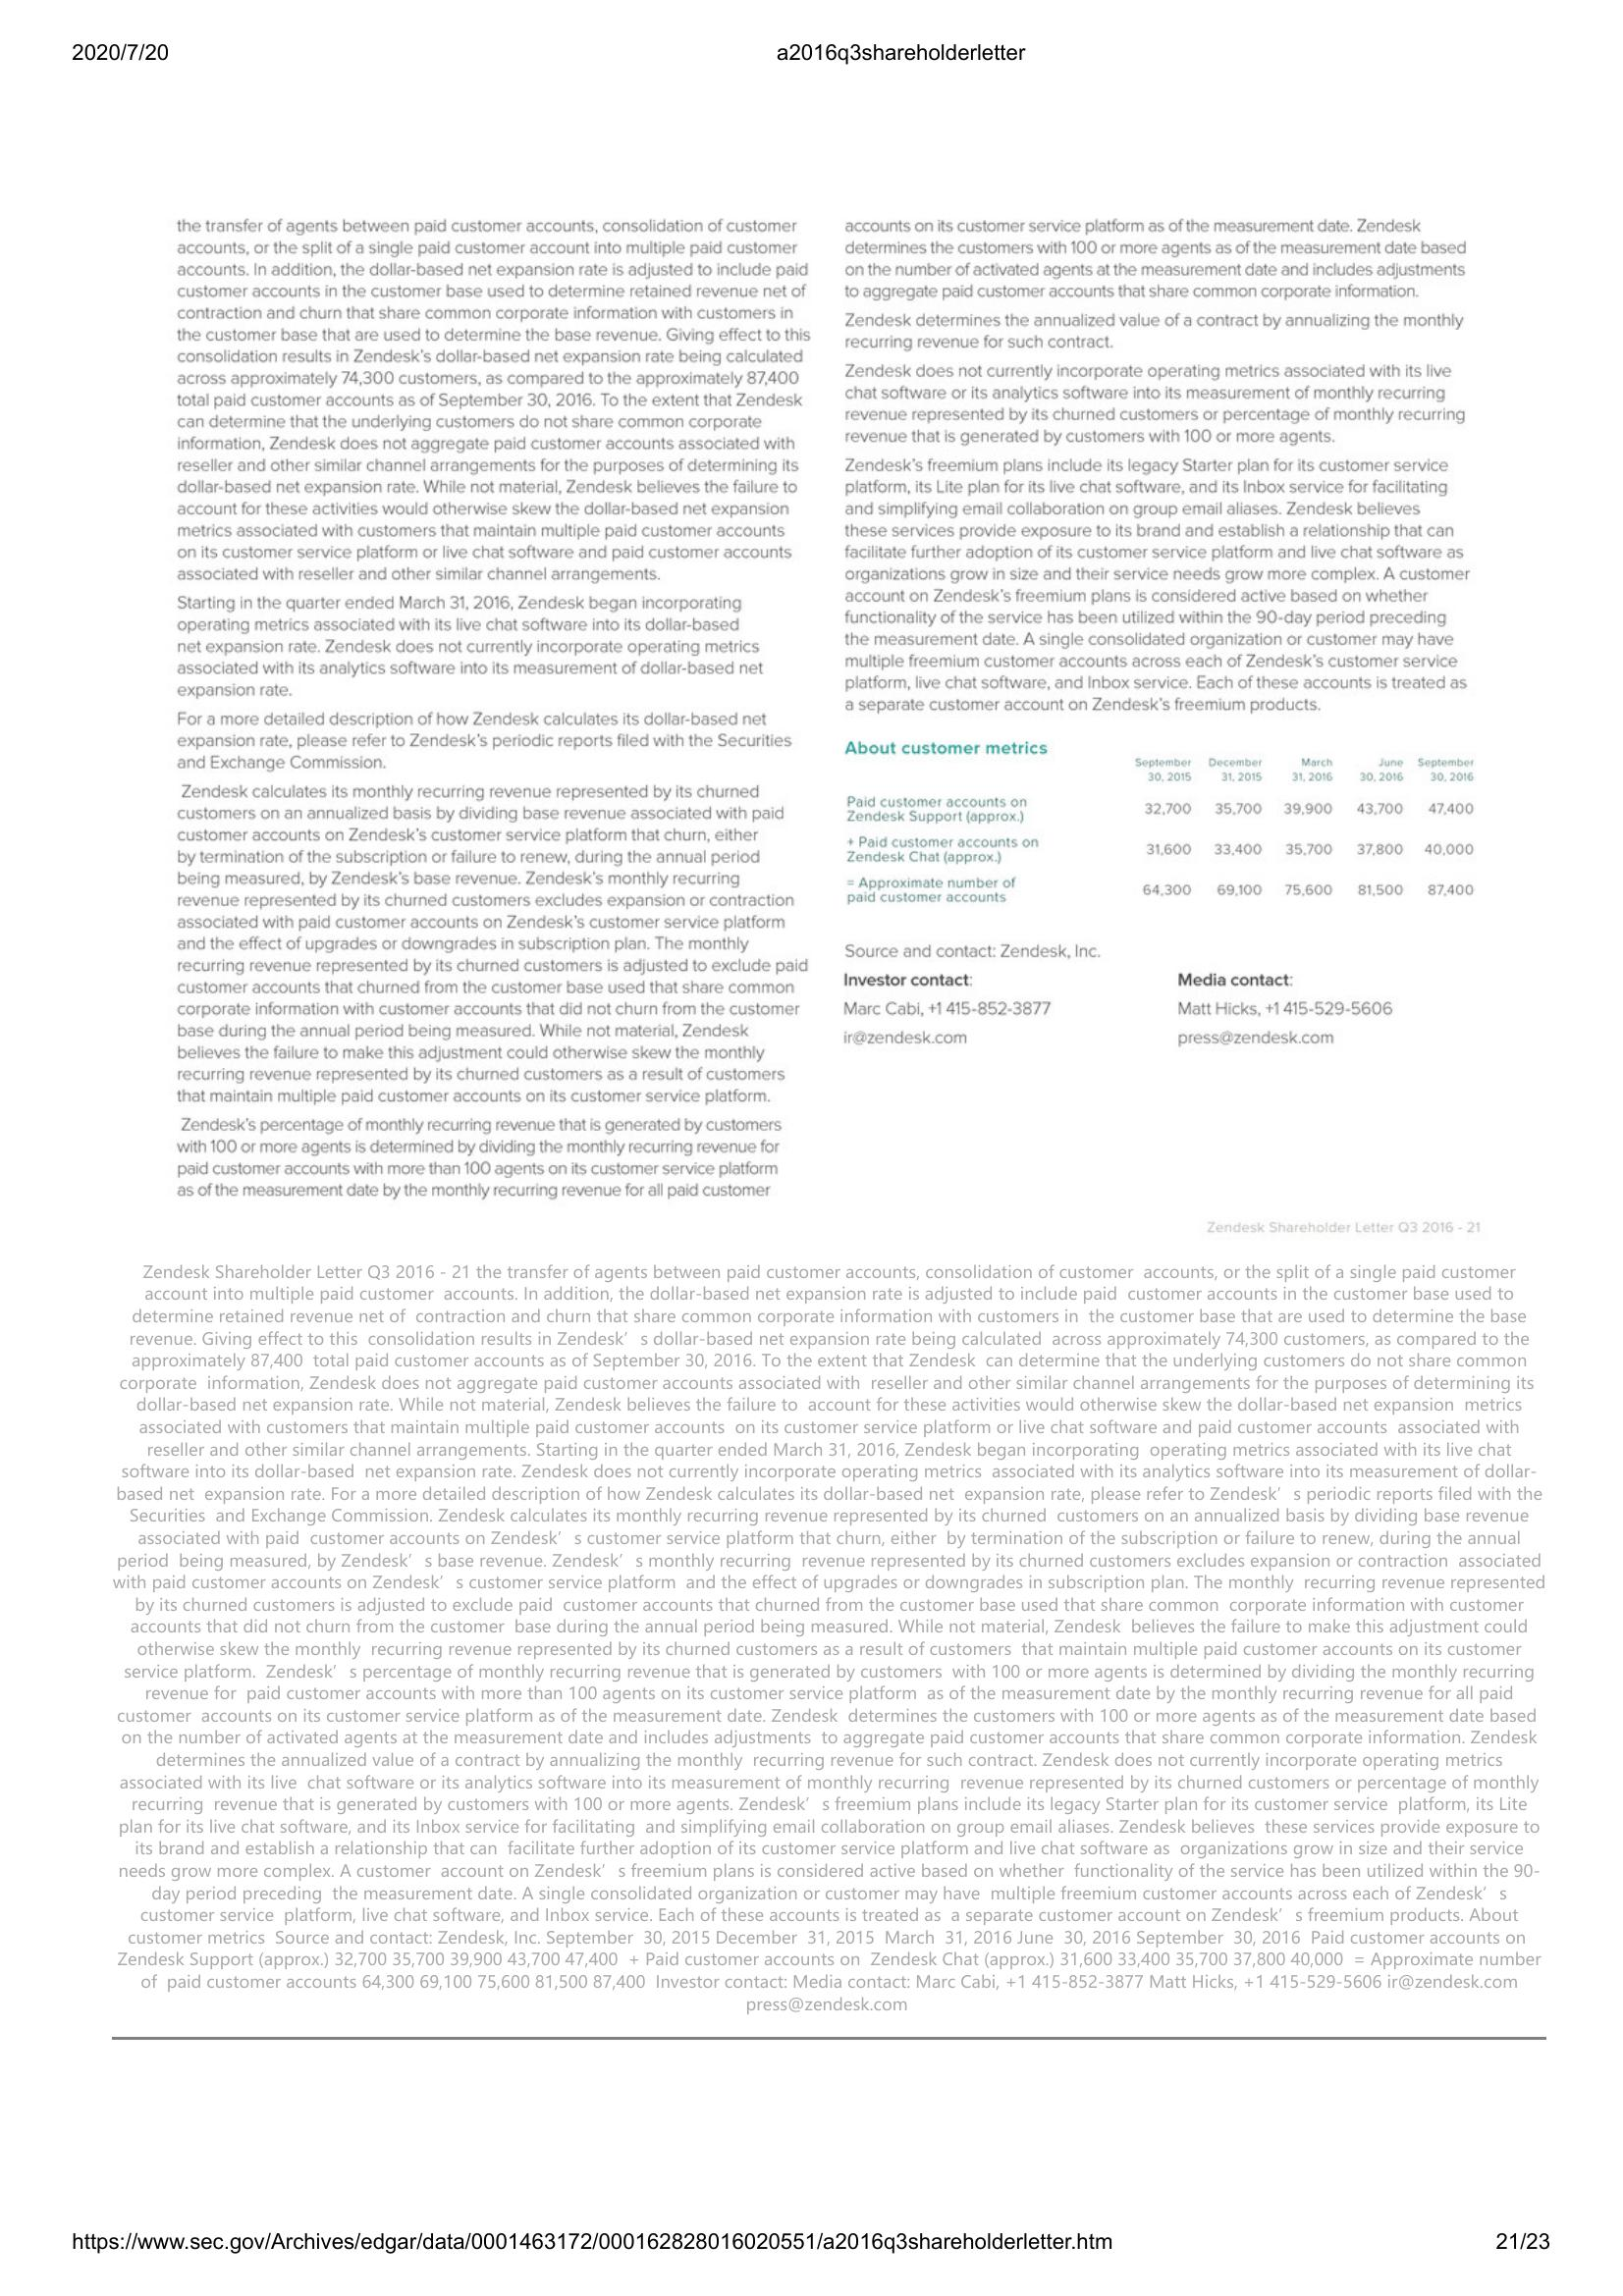table: (836, 730, 1488, 913)
